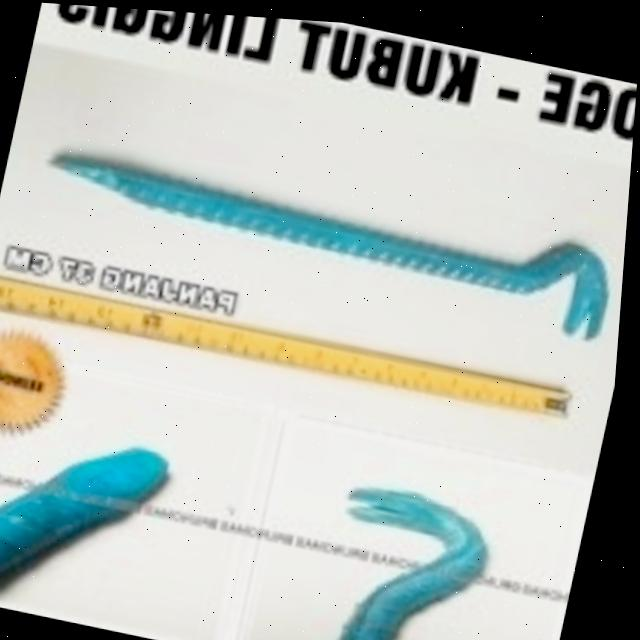crow bar: (44, 157, 613, 337)
